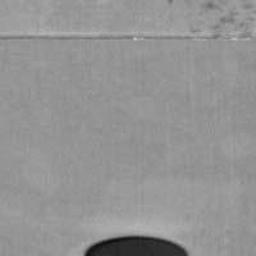Punching: (83, 236, 187, 256)
